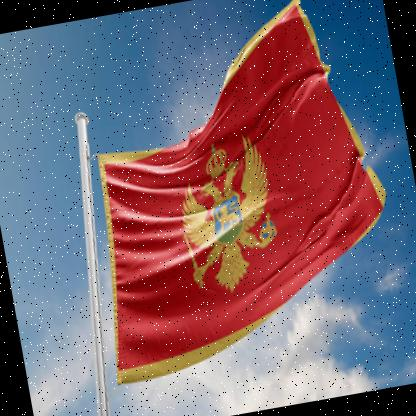me: (55, 1, 414, 390)
